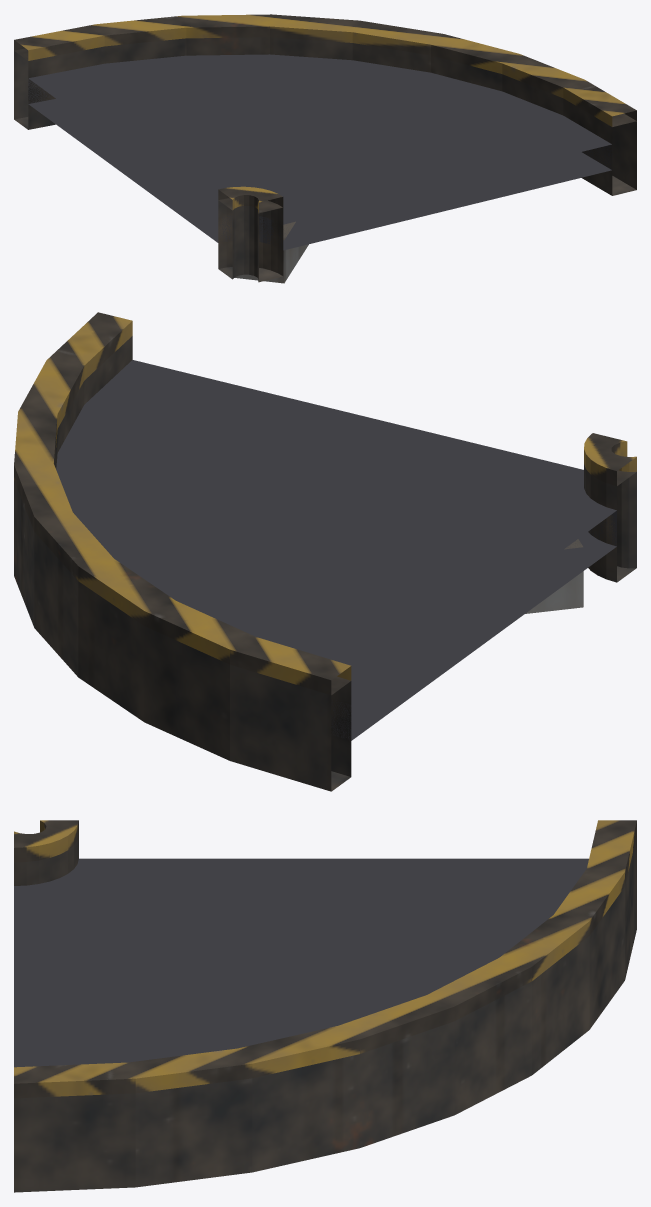
Rendered from esteira_curva_esq.glb.
The picture shows the model from 3 angles, top to bottom: view 1: azimuth 30°, elevation 25°; view 2: azimuth 150°, elevation 25°; view 3: azimuth 270°, elevation 25°; orthographic projection. The views are drawn at different scales.
Visible parts, largest first — view 1: esteira_curva_esq; view 2: esteira_curva_esq; view 3: esteira_curva_esq.
Part boxes in pixels (x1,y1,x2,y2): esteira_curva_esq: (14, 14, 636, 283); esteira_curva_esq: (14, 312, 636, 791); esteira_curva_esq: (14, 820, 636, 1192).
Bounding box in the file's own units: 0.96 × 0.225 × 0.96.
Materials: 2 (1 with a texture image).
